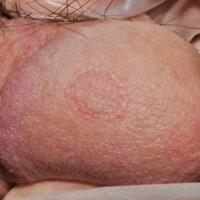annular lichen planus: (59, 54, 141, 129)
